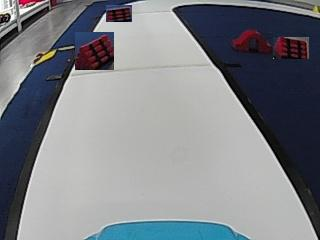bridge: (231, 27, 270, 53)
